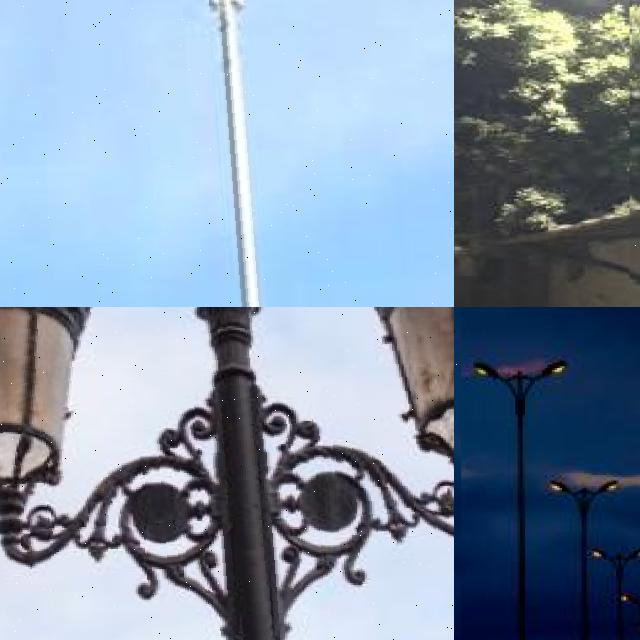street light: (0, 307, 454, 640), (0, 0, 454, 307), (476, 359, 567, 640), (549, 478, 616, 640), (591, 547, 640, 640), (620, 591, 640, 640)
